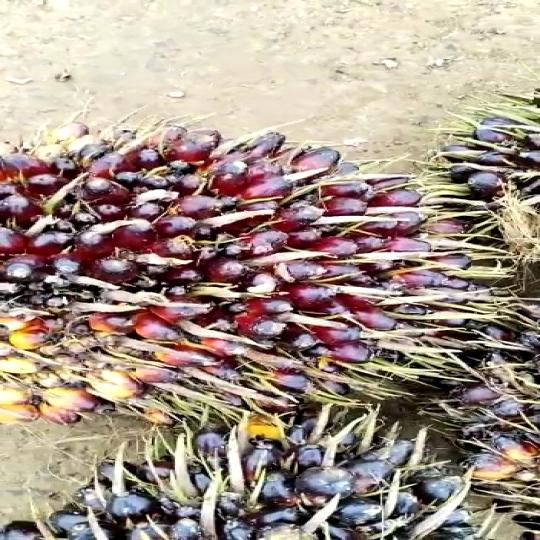mentah: (10, 124, 477, 428), (7, 424, 485, 536)
